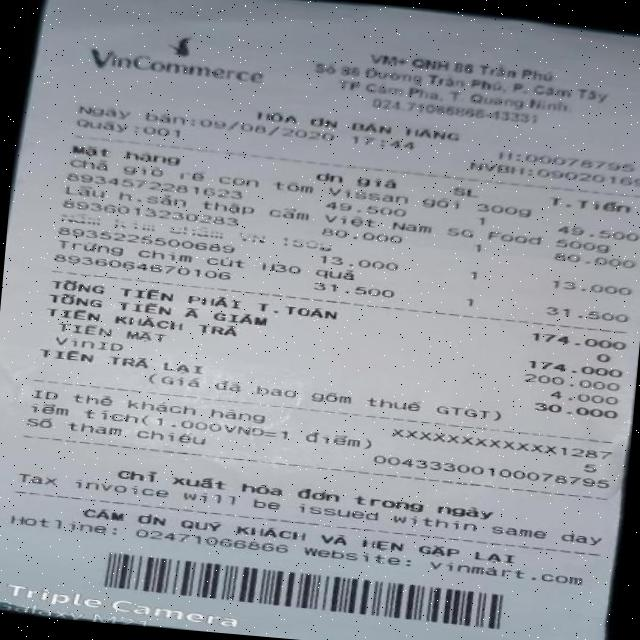Date: (192, 114, 342, 148)
Store_Name: (73, 22, 278, 90)
amount_number: (520, 326, 634, 355)
label_total: (51, 276, 344, 321)
